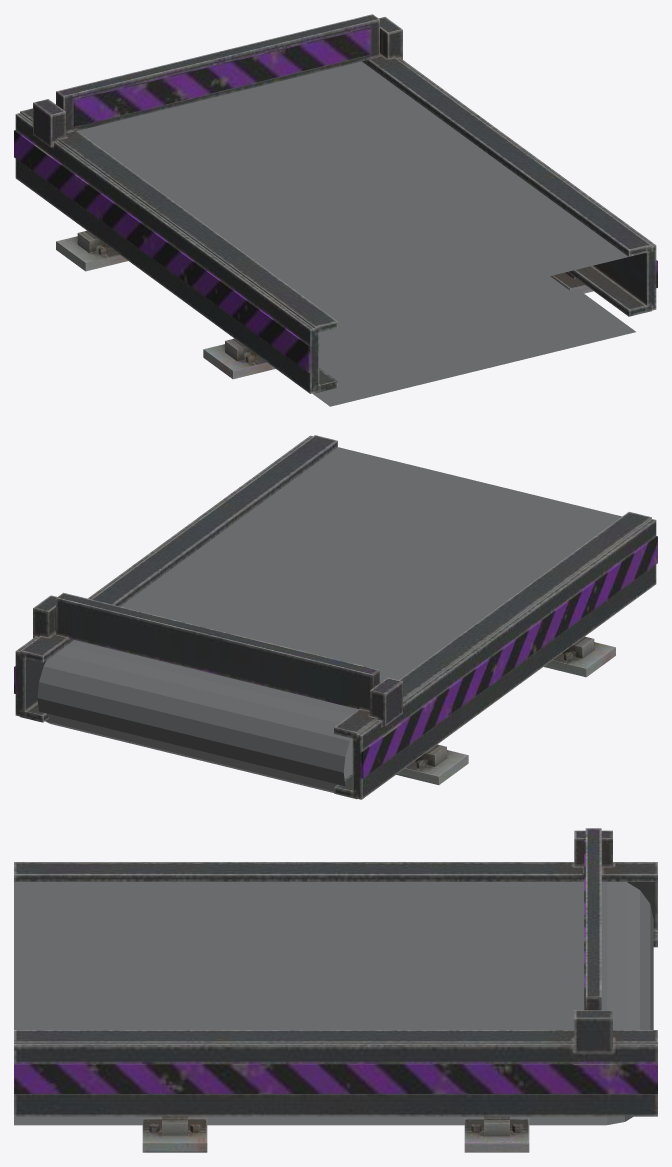
The model's file is esteira_fim_quantica.glb.
3 renders of one model, top to bottom at view 1: azimuth 30°, elevation 25°; view 2: azimuth 150°, elevation 25°; view 3: azimuth 270°, elevation 25°, orthographic. The views are drawn at different scales.
Visible parts, largest first — view 1: esteira_fim_quantica_corpo; view 2: esteira_fim_quantica_corpo; view 3: esteira_fim_quantica_corpo.
Part boxes in pixels (x1,y1,x2,y2): esteira_fim_quantica_corpo: [14, 14, 657, 406]; esteira_fim_quantica_corpo: [14, 435, 657, 799]; esteira_fim_quantica_corpo: [14, 828, 657, 1152].
Bounding box in the file's own units: 0.75 × 0.236 × 1.
Materials: 2 (1 with a texture image).
